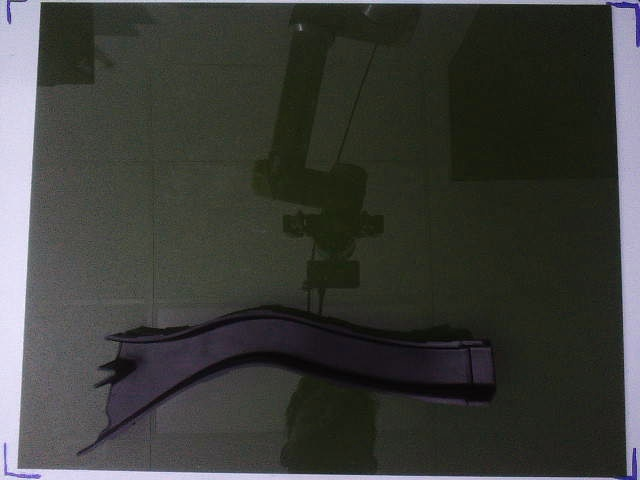887_B-Under: (75, 307, 495, 456)
